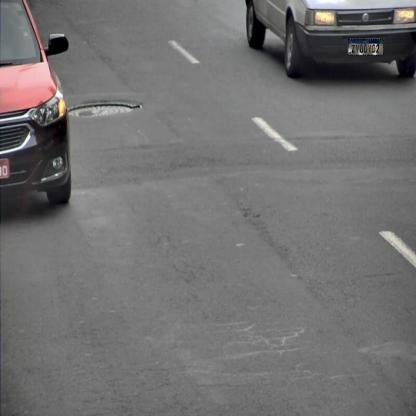PlacaM: (348, 39, 384, 55)
